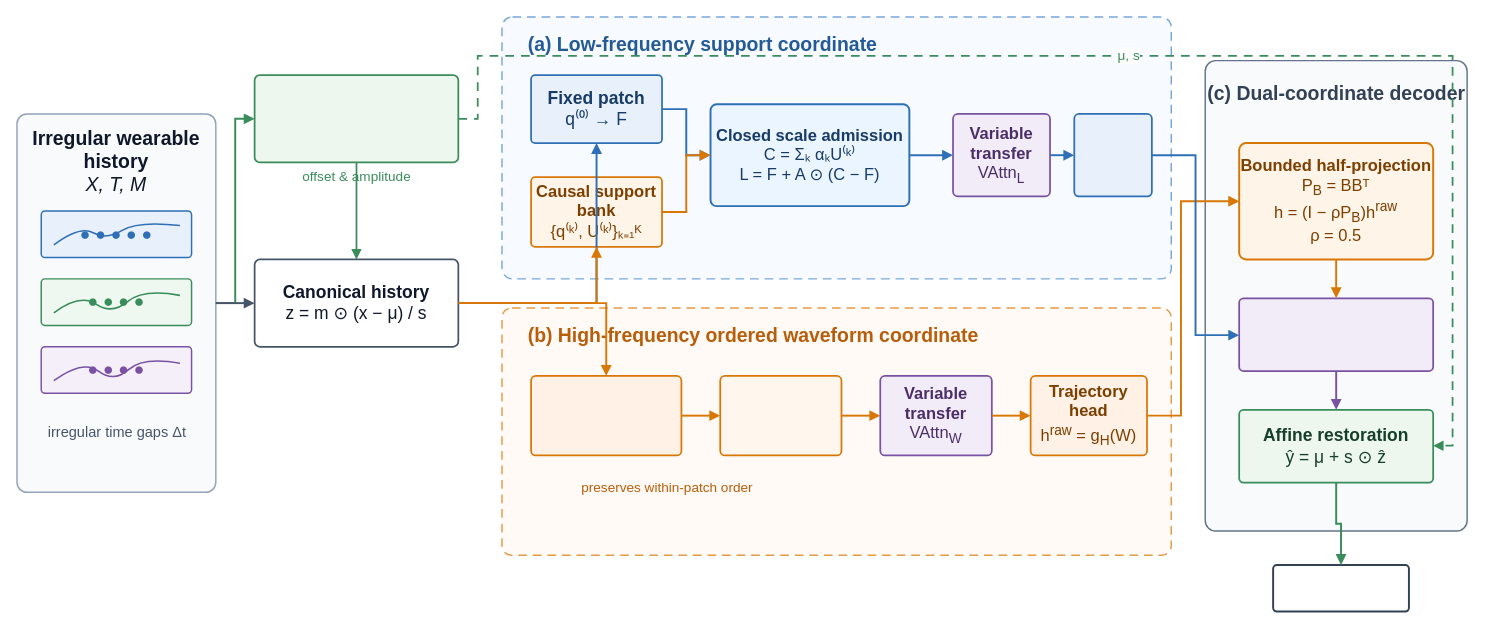
The diagram is 1485 pixels wide and 630 high, and some of its shapes have lost their labels. Here are the shapes that lost their labels. From the top down, the centre of each, then its label:
At pixel 356 118: "Masked affine anchor μ, s from observed history".
At pixel 1112 155: "Low DCT head ẑ L = Bc".
At pixel 1336 334: "Coordinate sum ẑ = ẑ L + h".
At pixel 606 415: "Ordered patch fields z ⊙ m, m, Δz".
At pixel 780 415: "Waveform token Wₚ = f W (·)".
At pixel 1340 588: "Future forecast Ŷ".
